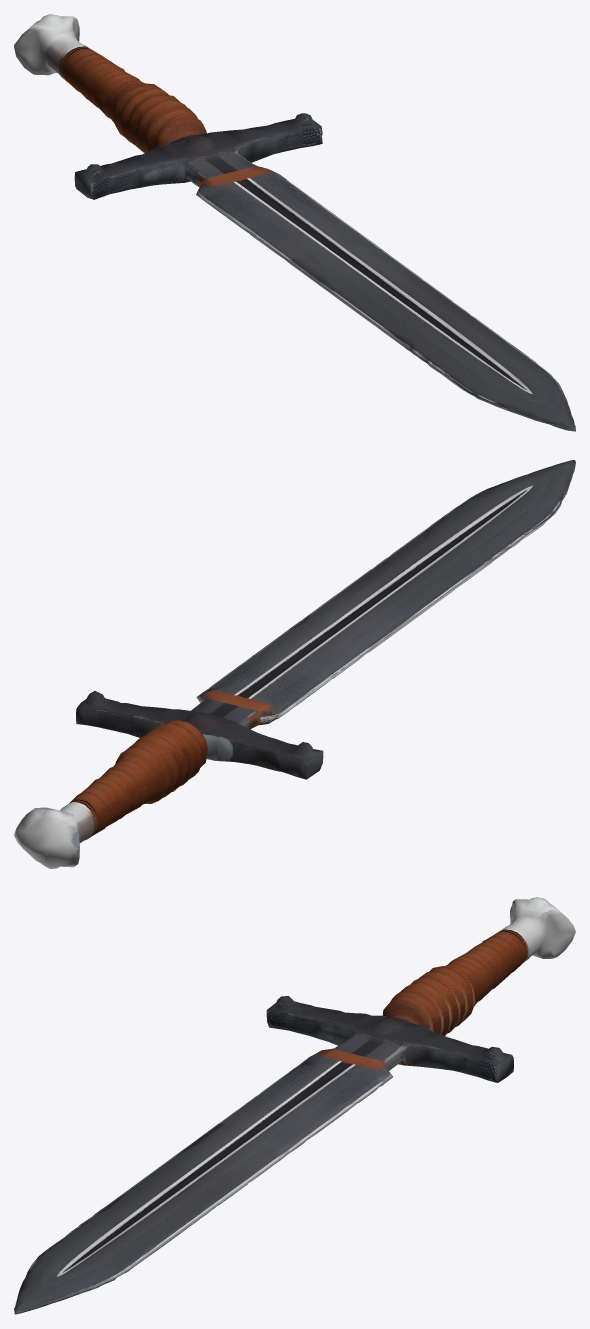
The model's file is sword_iron.glb.
The picture shows the model from 3 angles, top to bottom: view 1: azimuth 30°, elevation 25°; view 2: azimuth 150°, elevation 25°; view 3: azimuth 330°, elevation 25°; orthographic projection.
Parts seen in each view (by area): view 1: Mesh_0.001; view 2: Mesh_0.001; view 3: Mesh_0.001.
Part boxes in pixels (x1,y1,x2,y2): Mesh_0.001: (14,14,575,431); Mesh_0.001: (14,460,575,868); Mesh_0.001: (14,897,575,1314).
Size of the model in its own units: 3.67 by 0.9 by 14.73.
Materials: 1 (1 with a texture image).
